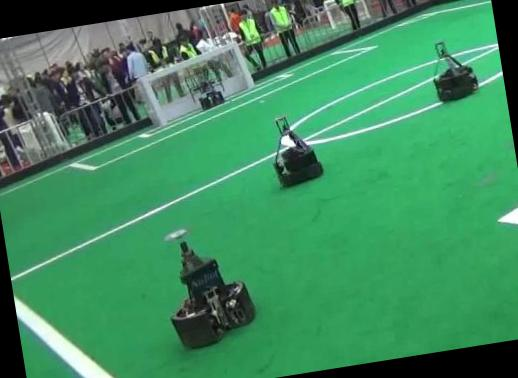goal: (140, 76, 168, 125), (233, 43, 254, 88)
robot: (171, 241, 254, 347), (274, 116, 322, 186), (434, 42, 478, 100), (199, 80, 226, 110)
